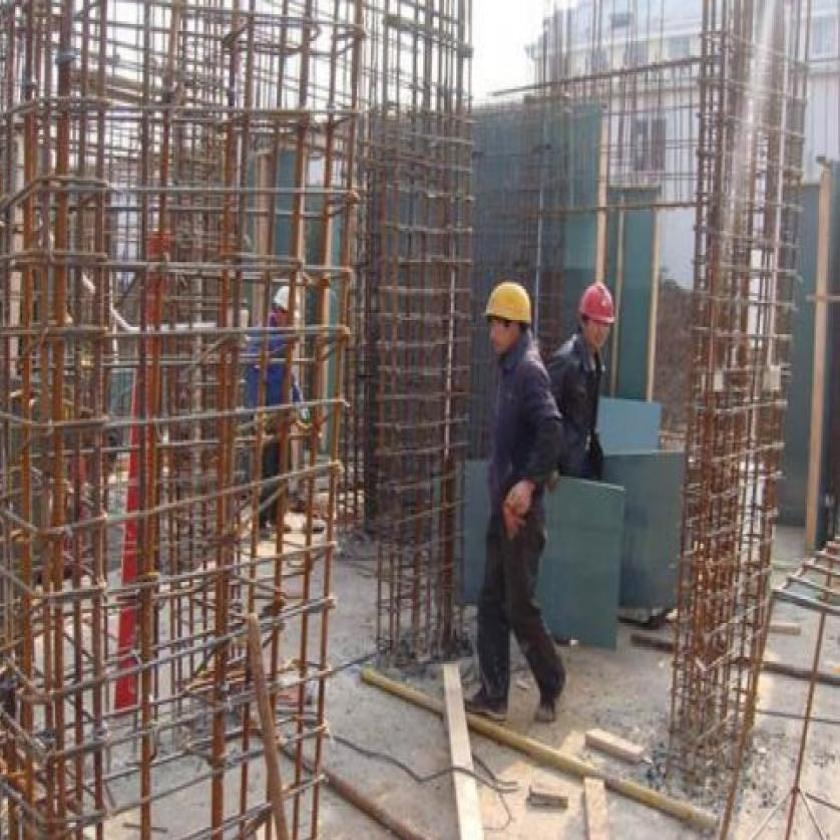Con_casco: (478, 264, 534, 364), (579, 273, 628, 365)
